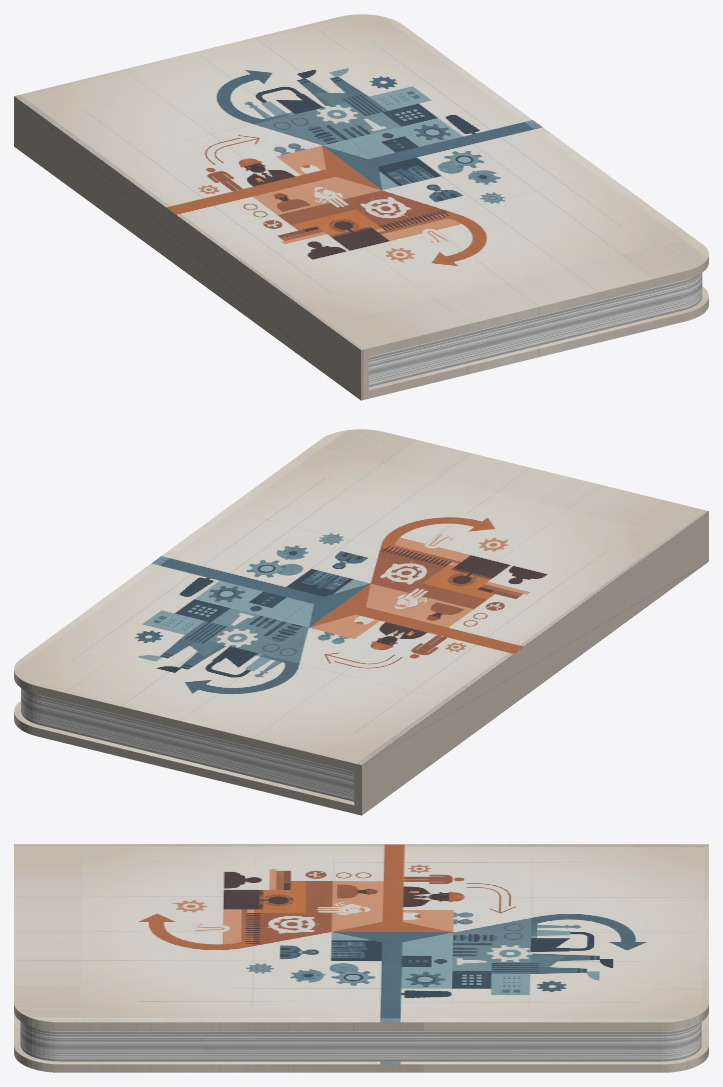
Rendered from Notebook2.glb.
3 views of the same model, one above another, from view 1: azimuth 30°, elevation 25°; view 2: azimuth 150°, elevation 25°; view 3: azimuth 270°, elevation 25° (orthographic).
Parts seen in each view (by area): view 1: Group20, Group1; view 2: Group20, Group1; view 3: Group20, Group1.
Boxes of the visible parts, box(x1,y1,x2,y2) form: Group20: box(14, 14, 708, 400); Group1: box(368, 273, 702, 386); Group20: box(14, 429, 708, 815); Group1: box(21, 688, 354, 801); Group20: box(14, 844, 708, 1072); Group1: box(20, 1021, 701, 1061).
Bounding box in the file's own units: 121 × 16.19 × 199.
Materials: 7 (2 with a texture image).
